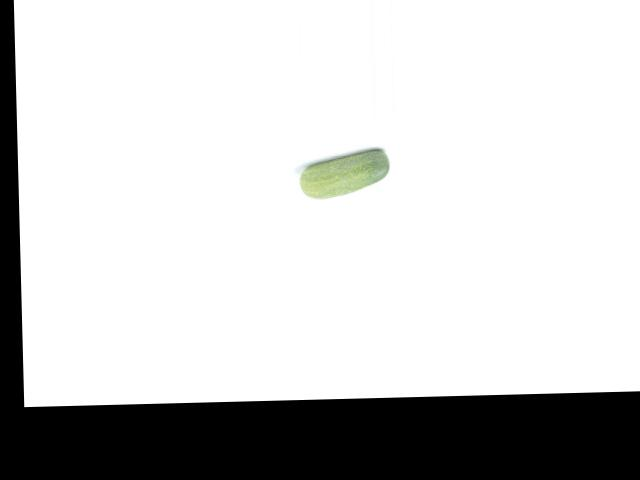cucumber: (299, 149, 390, 199)
